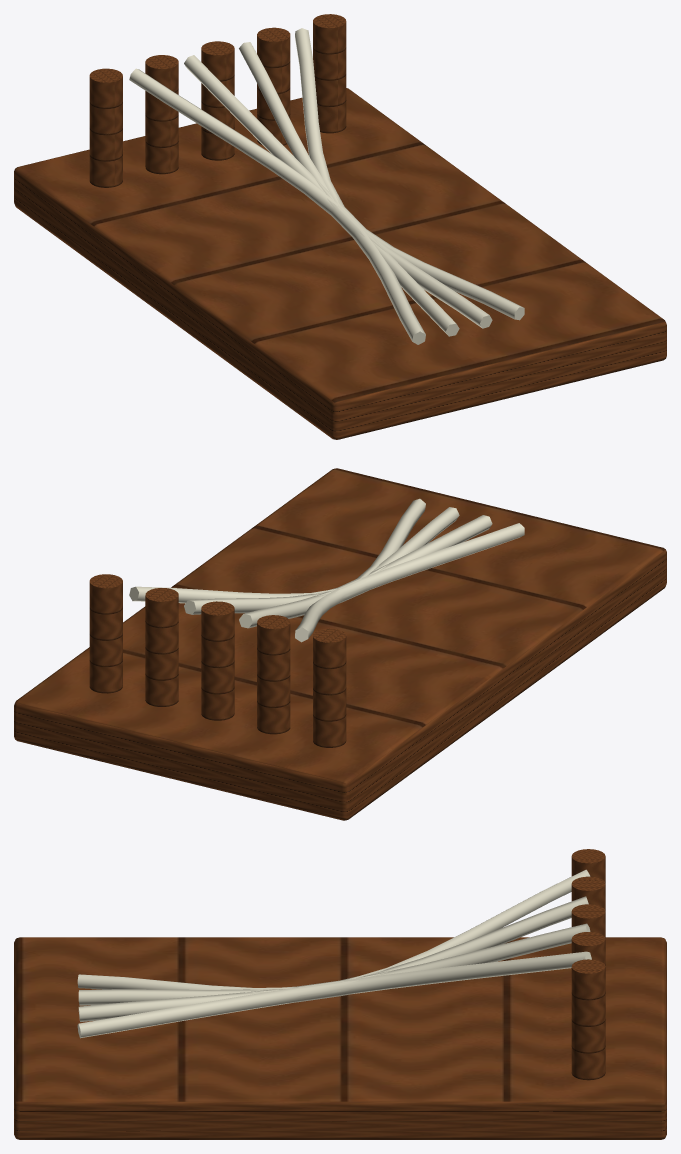
The model's file is primitive-crafting-workshop-braiding-board-4183cb9e__21554.glb.
3 renders of one model, top to bottom at view 1: azimuth 30°, elevation 25°; view 2: azimuth 150°, elevation 25°; view 3: azimuth 270°, elevation 25°, orthographic.
Parts seen in each view (by area): view 1: braiding-board; view 2: braiding-board; view 3: braiding-board.
Part boxes in pixels (bbox=[...]): braiding-board: bbox=[14, 14, 666, 439]; braiding-board: bbox=[14, 468, 666, 820]; braiding-board: bbox=[14, 849, 666, 1139].
Size of the model in its own units: 0.3 by 0.1258 by 0.5.
2 materials, 1 textured.
